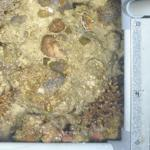dead: (9, 3, 119, 137)
